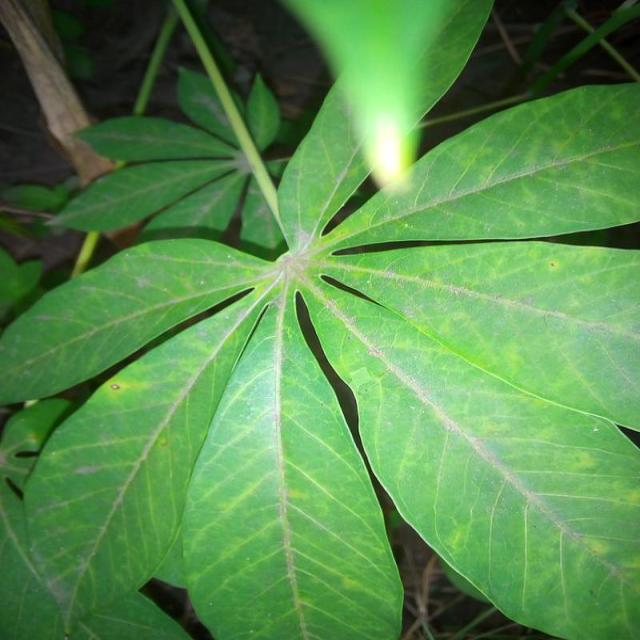cassava leaf: (1, 6, 638, 637)
